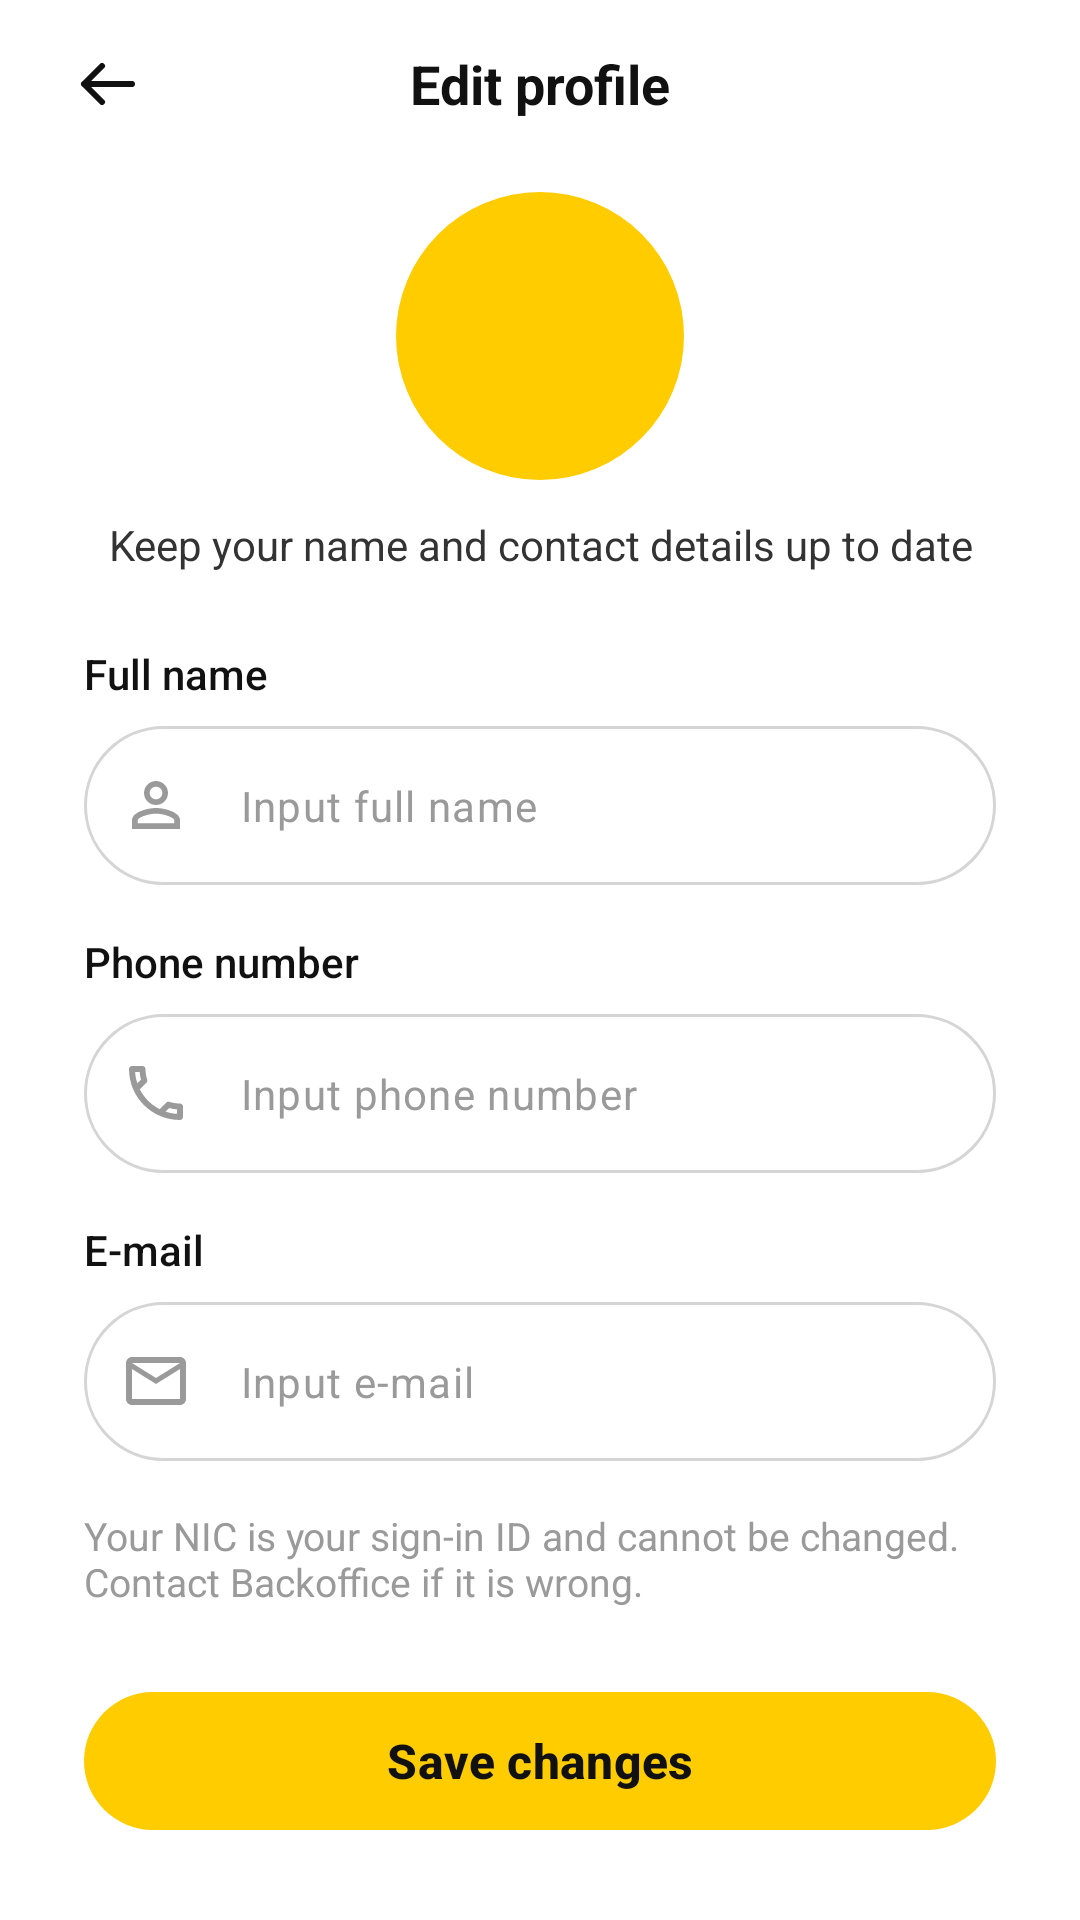

Icon bounding boxes for this 1080px x 1920px phone screenshot, format detection(x1, y1, x2, y2):
Back: detection(81, 63, 135, 105)
